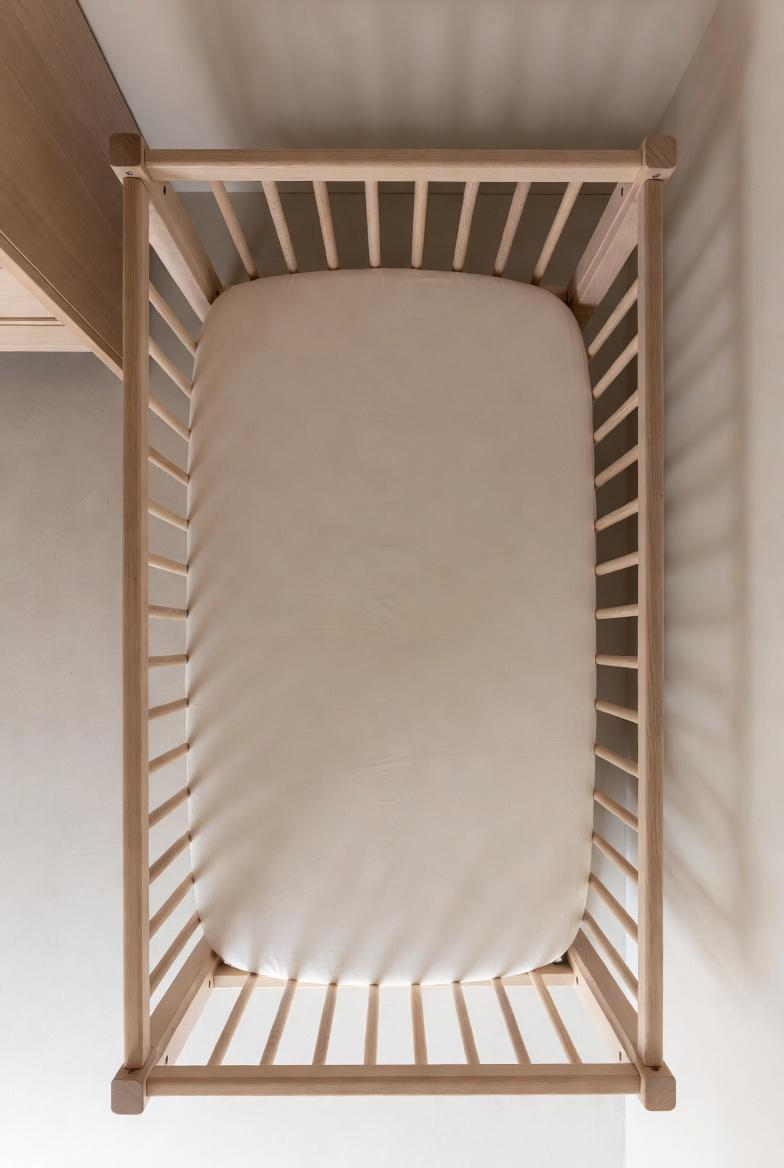crib: (112, 135, 675, 1113)
